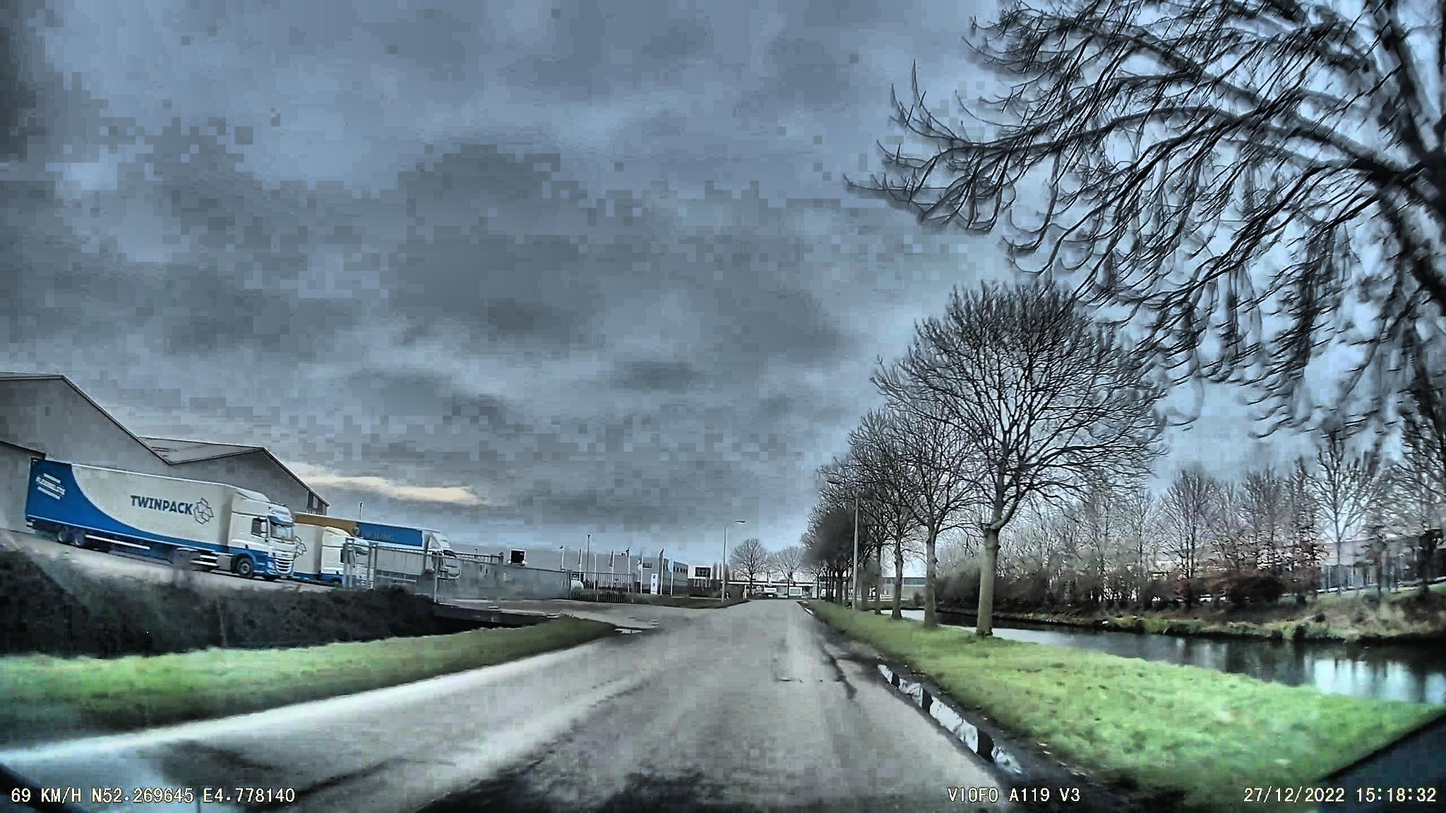Roads: (0, 601, 1158, 813)
